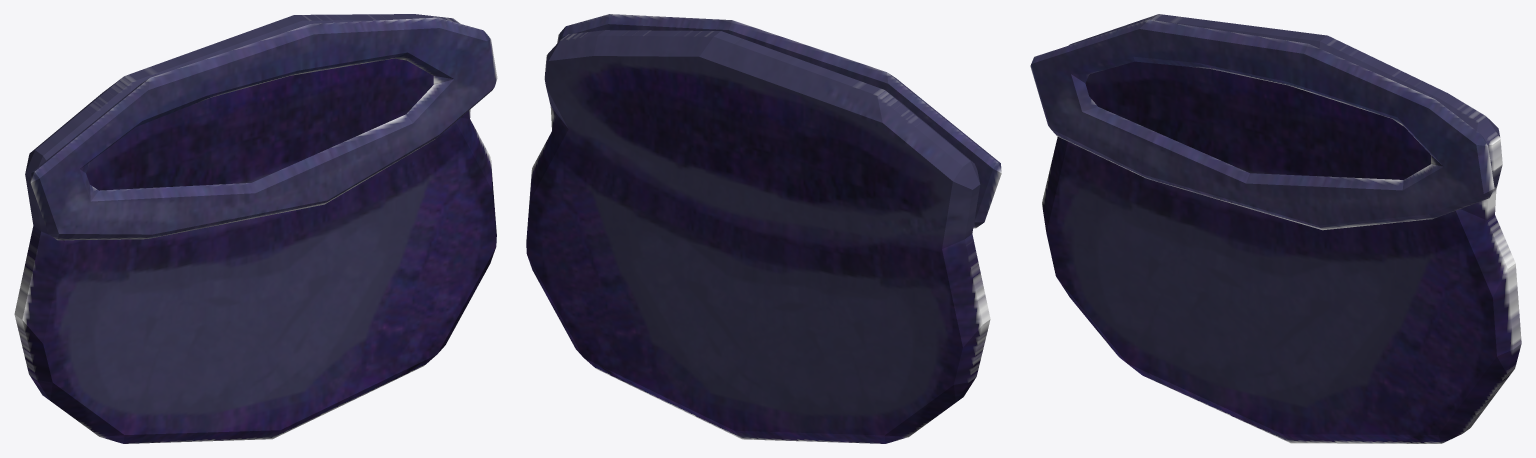
Rendered from couldron.fbx.
The picture shows the model from 3 angles, left to right: view 1: azimuth 30°, elevation 25°; view 2: azimuth 150°, elevation 25°; view 3: azimuth 330°, elevation 25°; orthographic projection. The views are drawn at different scales.
Parts seen in each view (by area): view 1: couldron, couldron top; view 2: couldron, couldron top; view 3: couldron, couldron top.
Part boxes in pixels (x1,y1,x2,y2): couldron: (14, 14, 496, 443); couldron top: (30, 17, 497, 240); couldron: (526, 30, 990, 443); couldron top: (557, 14, 1001, 228); couldron: (1042, 14, 1521, 443); couldron top: (1030, 19, 1494, 230).
Size of the model in its own units: 168 by 141 by 18.37.
